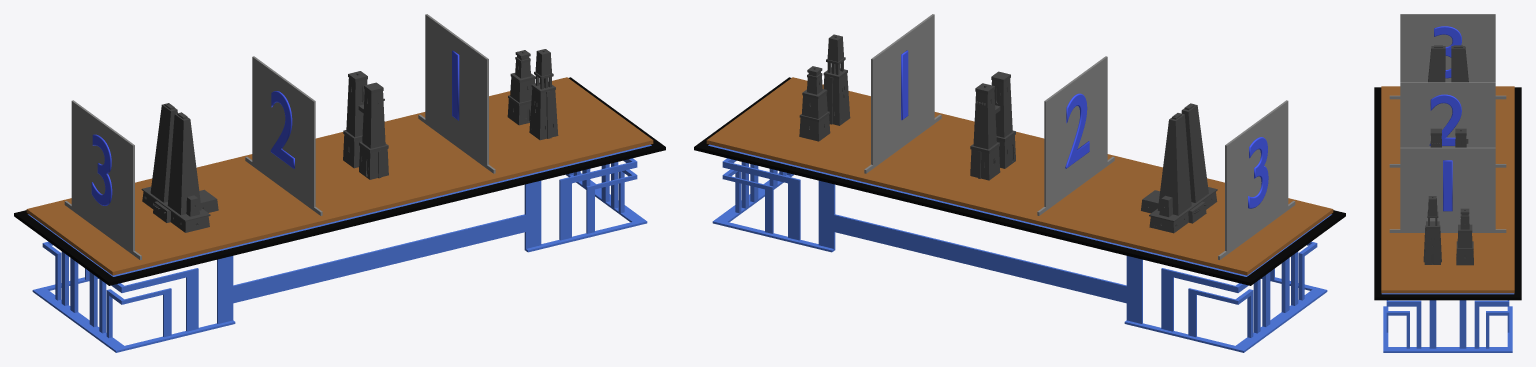
Rendered from Shaking Table.fbx.
The picture shows the model from 3 angles, left to right: view 1: azimuth 30°, elevation 25°; view 2: azimuth 150°, elevation 25°; view 3: azimuth 270°, elevation 25°; orthographic projection. The views are drawn at different scales.
Visible parts, largest first — view 1: 2_low.001; view 2: 2_low.001; view 3: 2_low.001.
Part boxes in pixels (x1=…): 2_low.001: x1=14, y1=14, x2=665, y2=352; 2_low.001: x1=694, y1=14, x2=1345, y2=352; 2_low.001: x1=1374, y1=14, x2=1521, y2=352.
Bounding box in the file's own units: 300 × 99.14 × 88.89.
